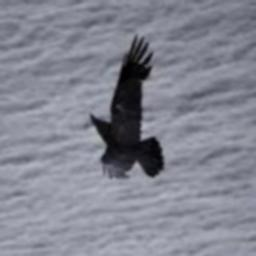Crow: (88, 34, 164, 184)
